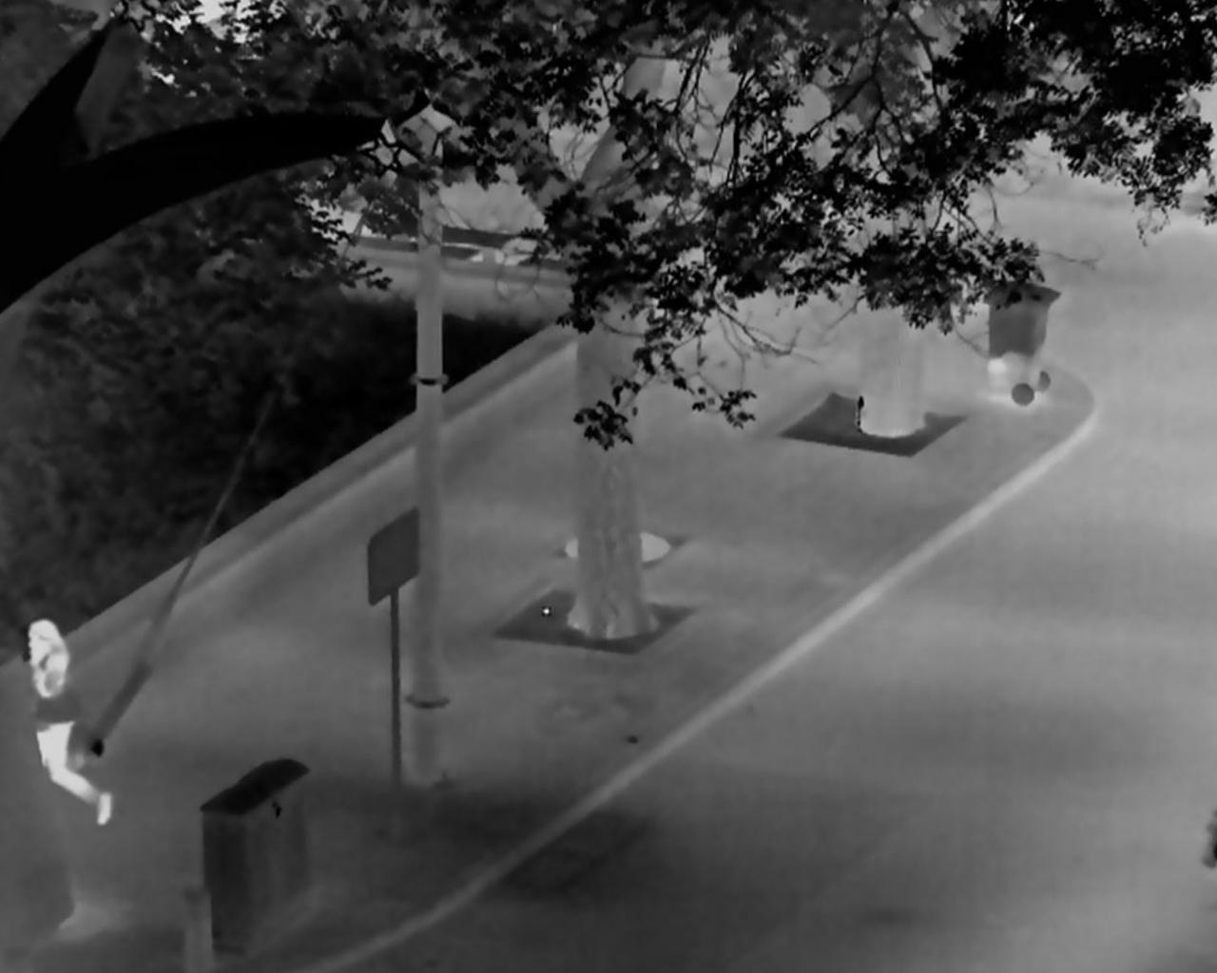person: (25, 619, 114, 826)
